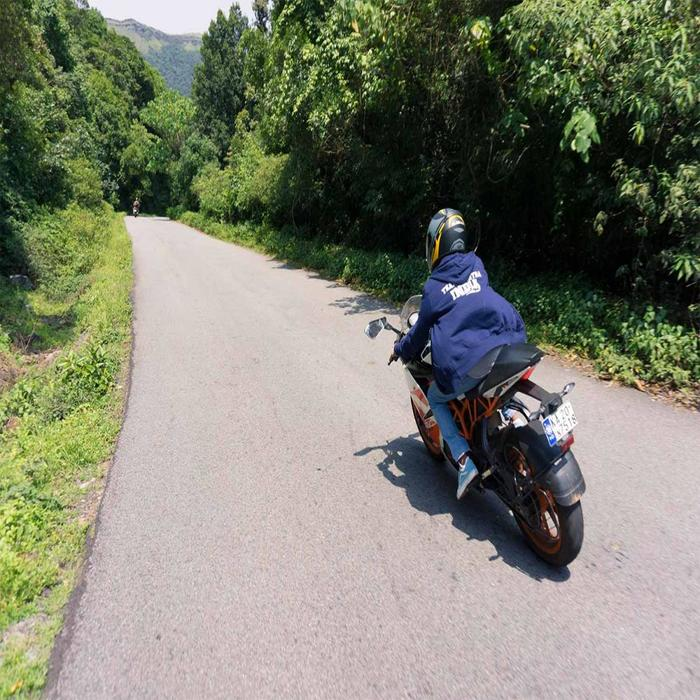h: (423, 205, 469, 275)
n: (539, 399, 579, 450)
